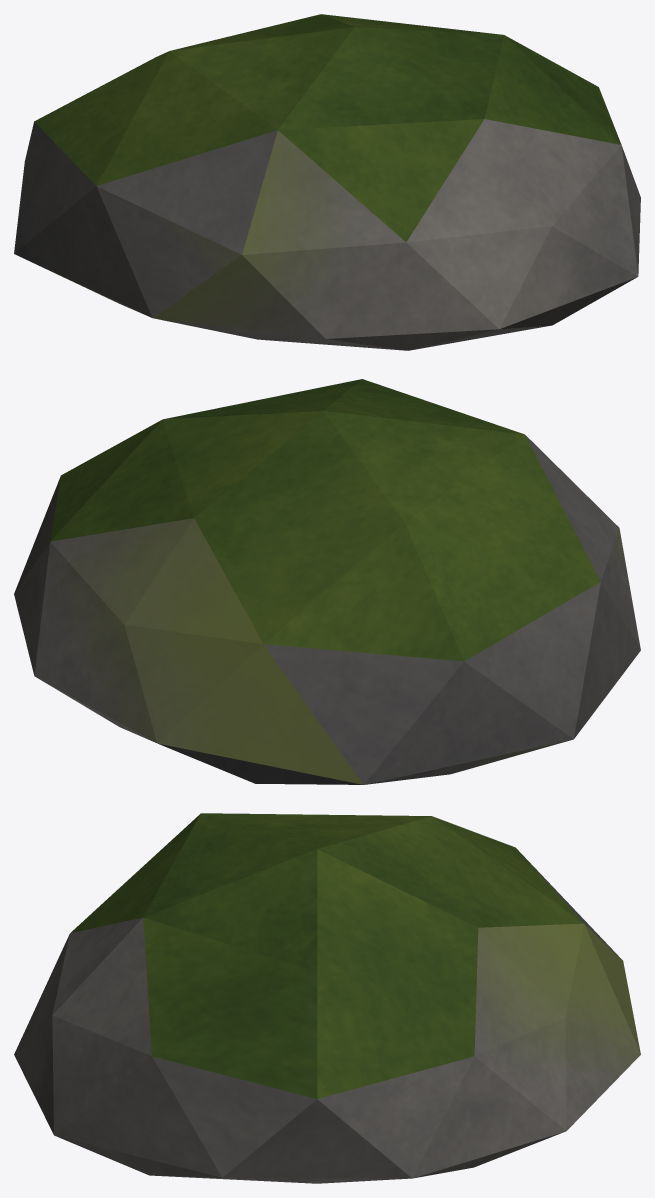
File: rock_3.glb
The picture shows the model from 3 angles, top to bottom: view 1: azimuth 30°, elevation 25°; view 2: azimuth 150°, elevation 25°; view 3: azimuth 270°, elevation 25°; orthographic projection. The views are drawn at different scales.
Visible parts, largest first — view 1: rock_4; view 2: rock_4; view 3: rock_4.
Part boxes in pixels (x1,y1,x2,y2): rock_4: (14,14,640,350); rock_4: (14,379,640,784); rock_4: (14,813,640,1183).
Size of the model in its own units: 0.9957 by 0.4381 by 0.972.
2 materials, 2 textured.
